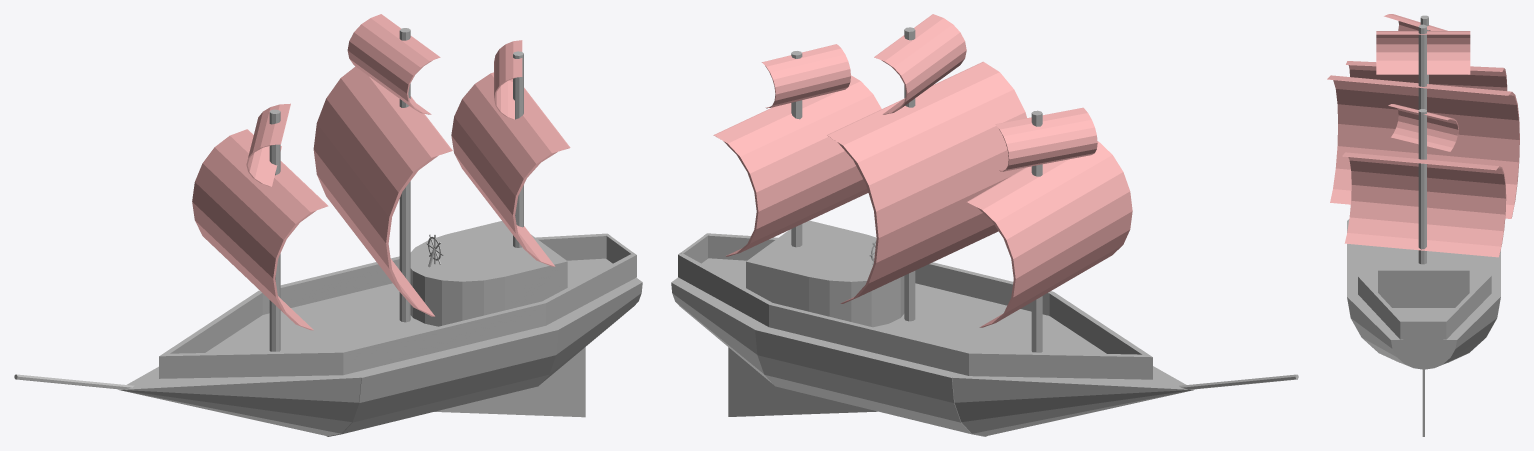
The model's file is ship.glb.
3 renders of one model, left to right at view 1: azimuth 30°, elevation 25°; view 2: azimuth 150°, elevation 25°; view 3: azimuth 270°, elevation 25°, orthographic. The views are drawn at different scales.
Visible parts, largest first — view 1: IndexedFaceSet, Parus, Parus2, Parus3, Parus5, IndexedFaceSet #7, Parus4, Parus6, IndexedFaceSet #8; view 2: IndexedFaceSet, Parus, Parus2, Parus3, Parus5, Parus4, IndexedFaceSet #7, Parus6, IndexedFaceSet #8; view 3: IndexedFaceSet, Parus3, Parus, Parus5, Parus2, Parus6, Parus4, IndexedFaceSet #7.
Part boxes in pixels (box(x1,y1,x2,y2)): IndexedFaceSet: box(118, 28, 642, 436); Parus: box(313, 66, 452, 316); Parus2: box(192, 129, 328, 330); Parus3: box(451, 72, 570, 266); Parus5: box(347, 14, 440, 114); IndexedFaceSet #7: box(434, 347, 585, 417); Parus4: box(246, 103, 290, 186); Parus6: box(494, 40, 522, 119); IndexedFaceSet #8: box(14, 374, 134, 389); IndexedFaceSet: box(671, 27, 1194, 436); Parus: box(827, 61, 1026, 303); Parus2: box(967, 141, 1132, 327); Parus3: box(713, 75, 881, 256); Parus5: box(874, 14, 966, 114); Parus4: box(995, 107, 1097, 171); IndexedFaceSet #7: box(728, 347, 877, 416); Parus6: box(762, 44, 850, 108); IndexedFaceSet #8: box(1179, 374, 1298, 389); IndexedFaceSet: box(1347, 15, 1500, 369); Parus3: box(1342, 152, 1506, 257); Parus: box(1327, 75, 1519, 218); Parus5: box(1376, 31, 1470, 74); Parus2: box(1346, 61, 1507, 90); Parus6: box(1388, 104, 1458, 151); Parus4: box(1384, 14, 1447, 30); IndexedFaceSet #7: box(1422, 369, 1424, 436).
Bounding box in the file's own units: 12.35 × 8.38 × 4.3.
